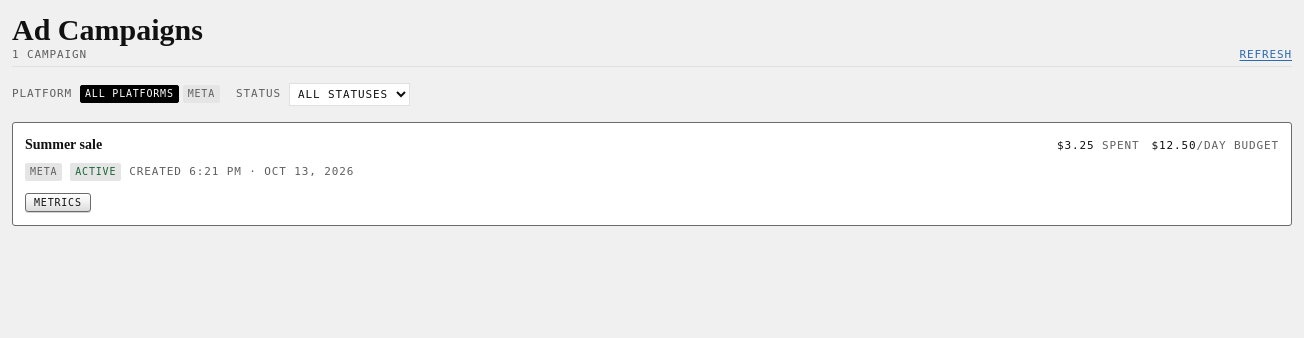
Scenario: Ads — stored campaign metrics have a real consumer › opening the expander issues GET /ads/campaigns/7/metrics with the bounded limit
Expected: the element with test id "campaign-row" is shown, top-left (12, 122), bottom-right (1292, 226)
Click the button with test id "campaign-metrics-toggle-7".
click(58, 203)  # box top-left (25, 193), bottom-right (91, 212)
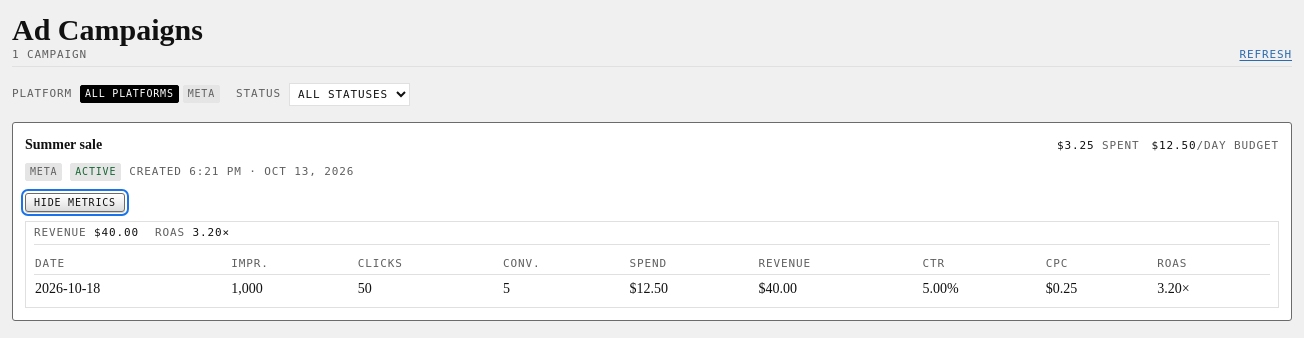
Expected: the element with test id "campaign-metrics-7" is shown, top-left (25, 221), bottom-right (1279, 308)
